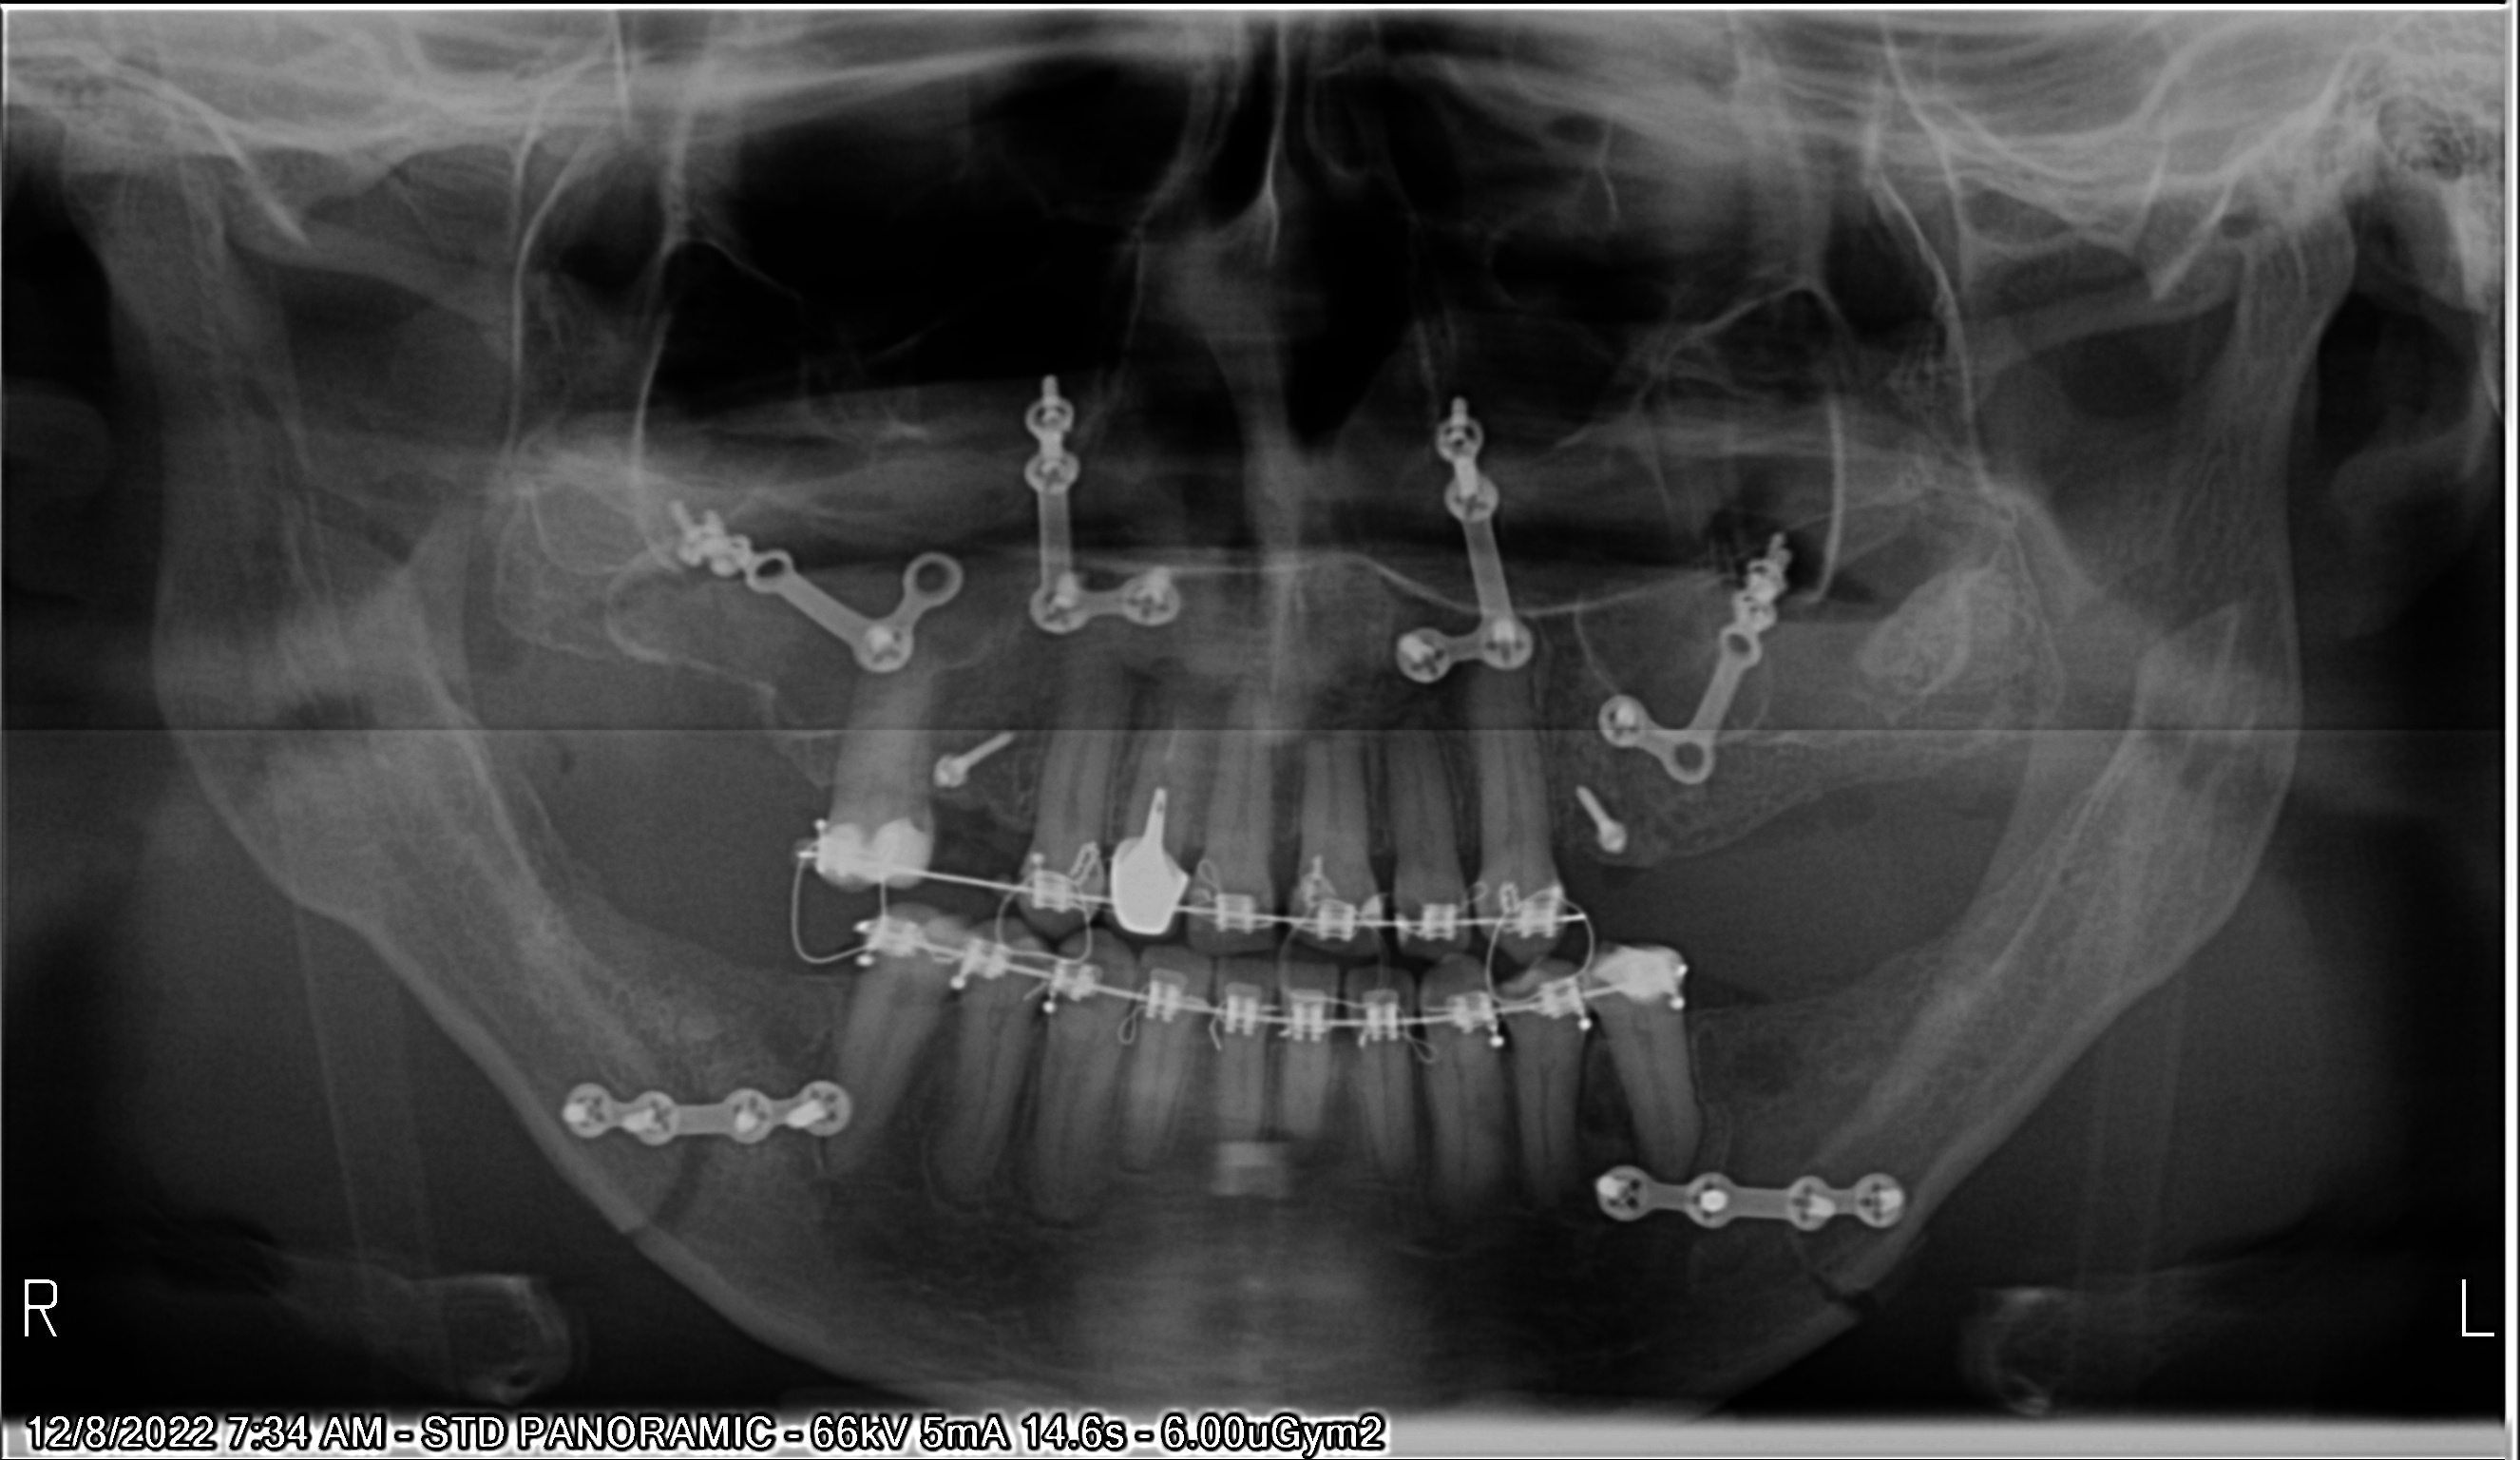END: (1122, 681, 1202, 808)
ORD: (801, 782, 1627, 998), (825, 869, 1718, 1064)
PRR: (1079, 815, 1216, 930)
SRD: (1523, 1092, 1997, 1302), (637, 474, 999, 709), (1573, 488, 1825, 796), (1348, 365, 1575, 687), (1000, 332, 1207, 660), (530, 1025, 889, 1213), (908, 702, 1021, 801), (1560, 775, 1653, 866)
